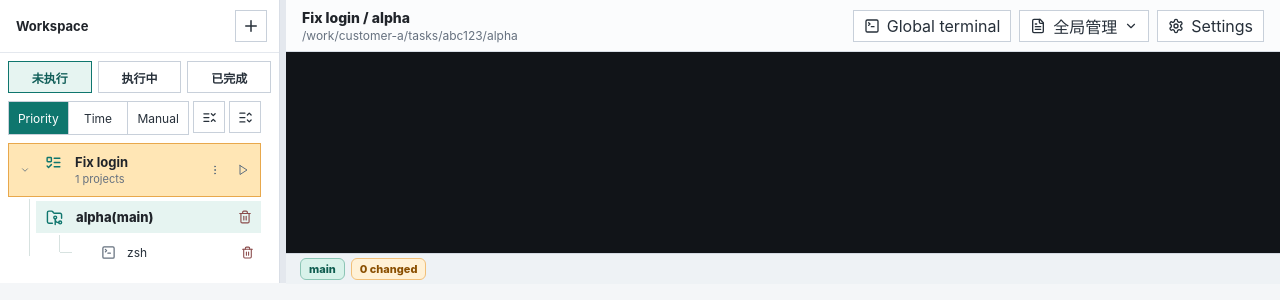
Scenario: App project terminal tree › uses terminal iconography for global terminal creation controls
Expected: the 1st icon with class "lucide-square-terminal" is shown, [864,18,880,34]
Click the button with test id "todo-view-in-progress".
click(140, 77)  # box [98,61,181,93]
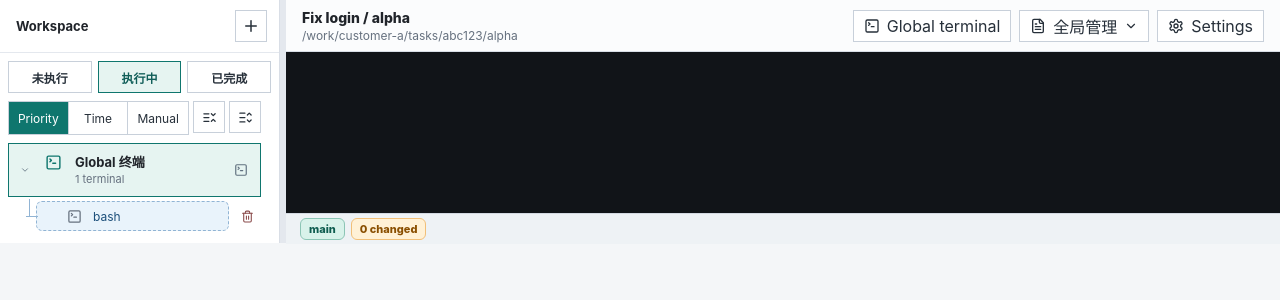
Now the 3rd icon with class "lucide-square-terminal" is shown, box [234,163,248,177]
